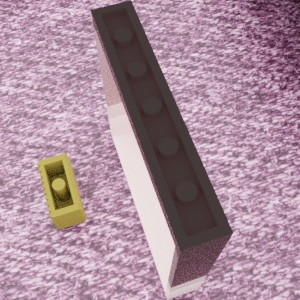lego: (90, 0, 233, 299), (36, 153, 87, 229)
